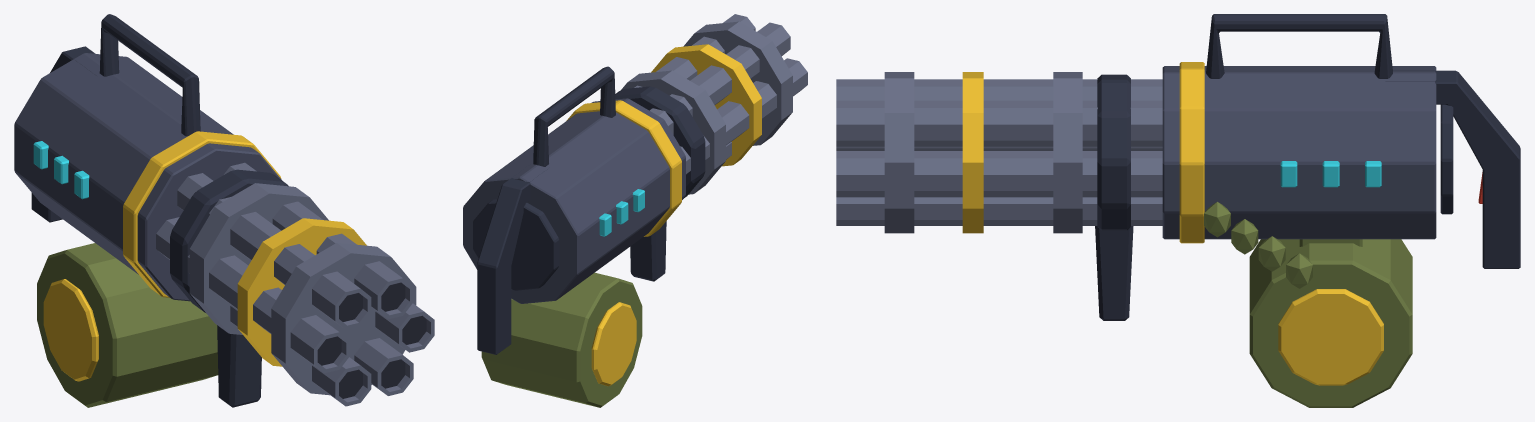
File: myw_grenadegatling.glb
3 views of the same model, side by side, from view 1: azimuth 30°, elevation 25°; view 2: azimuth 150°, elevation 25°; view 3: azimuth 270°, elevation 25° (orthographic). The views are drawn at different scales.
Visible parts, largest first — view 1: Barrels, Body, Drum, Grip; view 2: Body, Barrels, Drum, Grip; view 3: Body, Barrels, Drum, Grip, Grenades.
Boxes of the visible parts, x1,y1,x2,y2 form: Barrels: (156,162,434,406); Body: (14,14,282,301); Drum: (37,243,218,407); Grip: (170,169,288,407); Body: (463,66,685,354); Barrels: (621,14,807,194); Drum: (481,272,642,407); Grip: (615,86,705,281); Body: (1162,14,1520,268); Barrels: (836,72,1162,233); Drum: (1249,239,1412,407); Grip: (1095,74,1133,320); Grenades: (1204,202,1312,288).
Bounding box in the file's own units: 0.9371 × 1.91 × 3.25.
